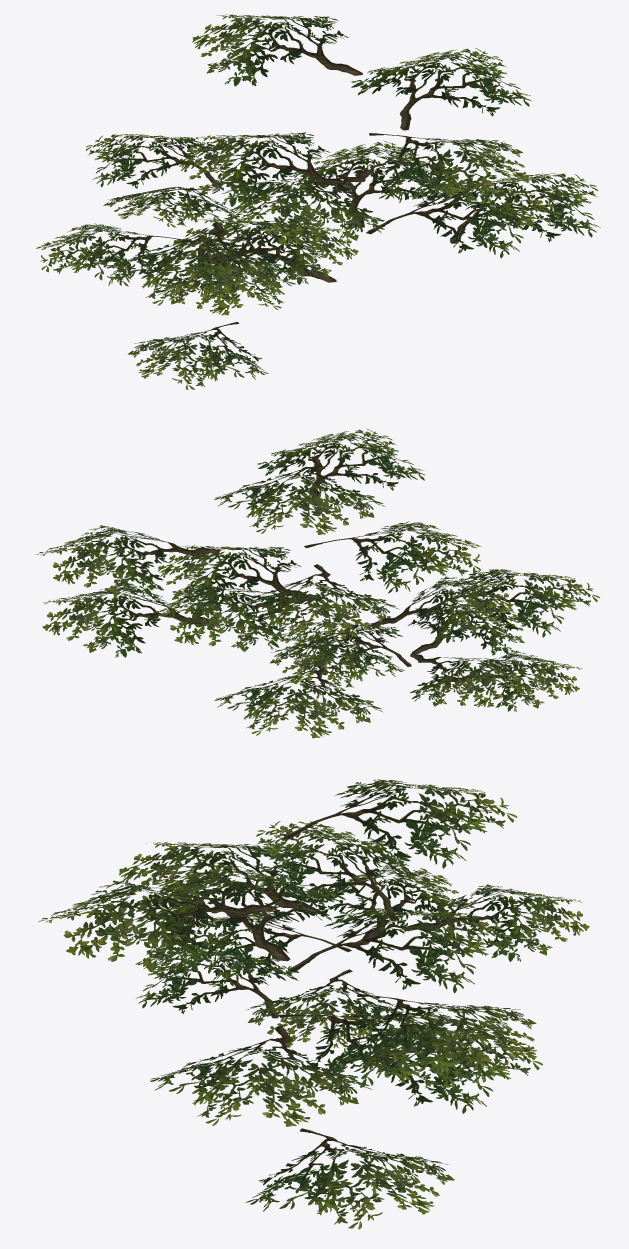
The model's file is fxmg_shuye1.FBX.
3 renders of one model, top to bottom at view 1: azimuth 30°, elevation 25°; view 2: azimuth 150°, elevation 25°; view 3: azimuth 270°, elevation 25°, orthographic. The views are drawn at different scales.
Parts seen in each view (by area): view 1: KLMSM_shuye1; view 2: KLMSM_shuye1; view 3: KLMSM_shuye1.
Boxes of the visible parts, left/top/right/bottom form: KLMSM_shuye1: left=36, top=14, right=600, bottom=389; KLMSM_shuye1: left=36, top=429, right=599, bottom=738; KLMSM_shuye1: left=38, top=779, right=589, bottom=1229.
Size of the model in its own units: 1884 by 777 by 1443.
